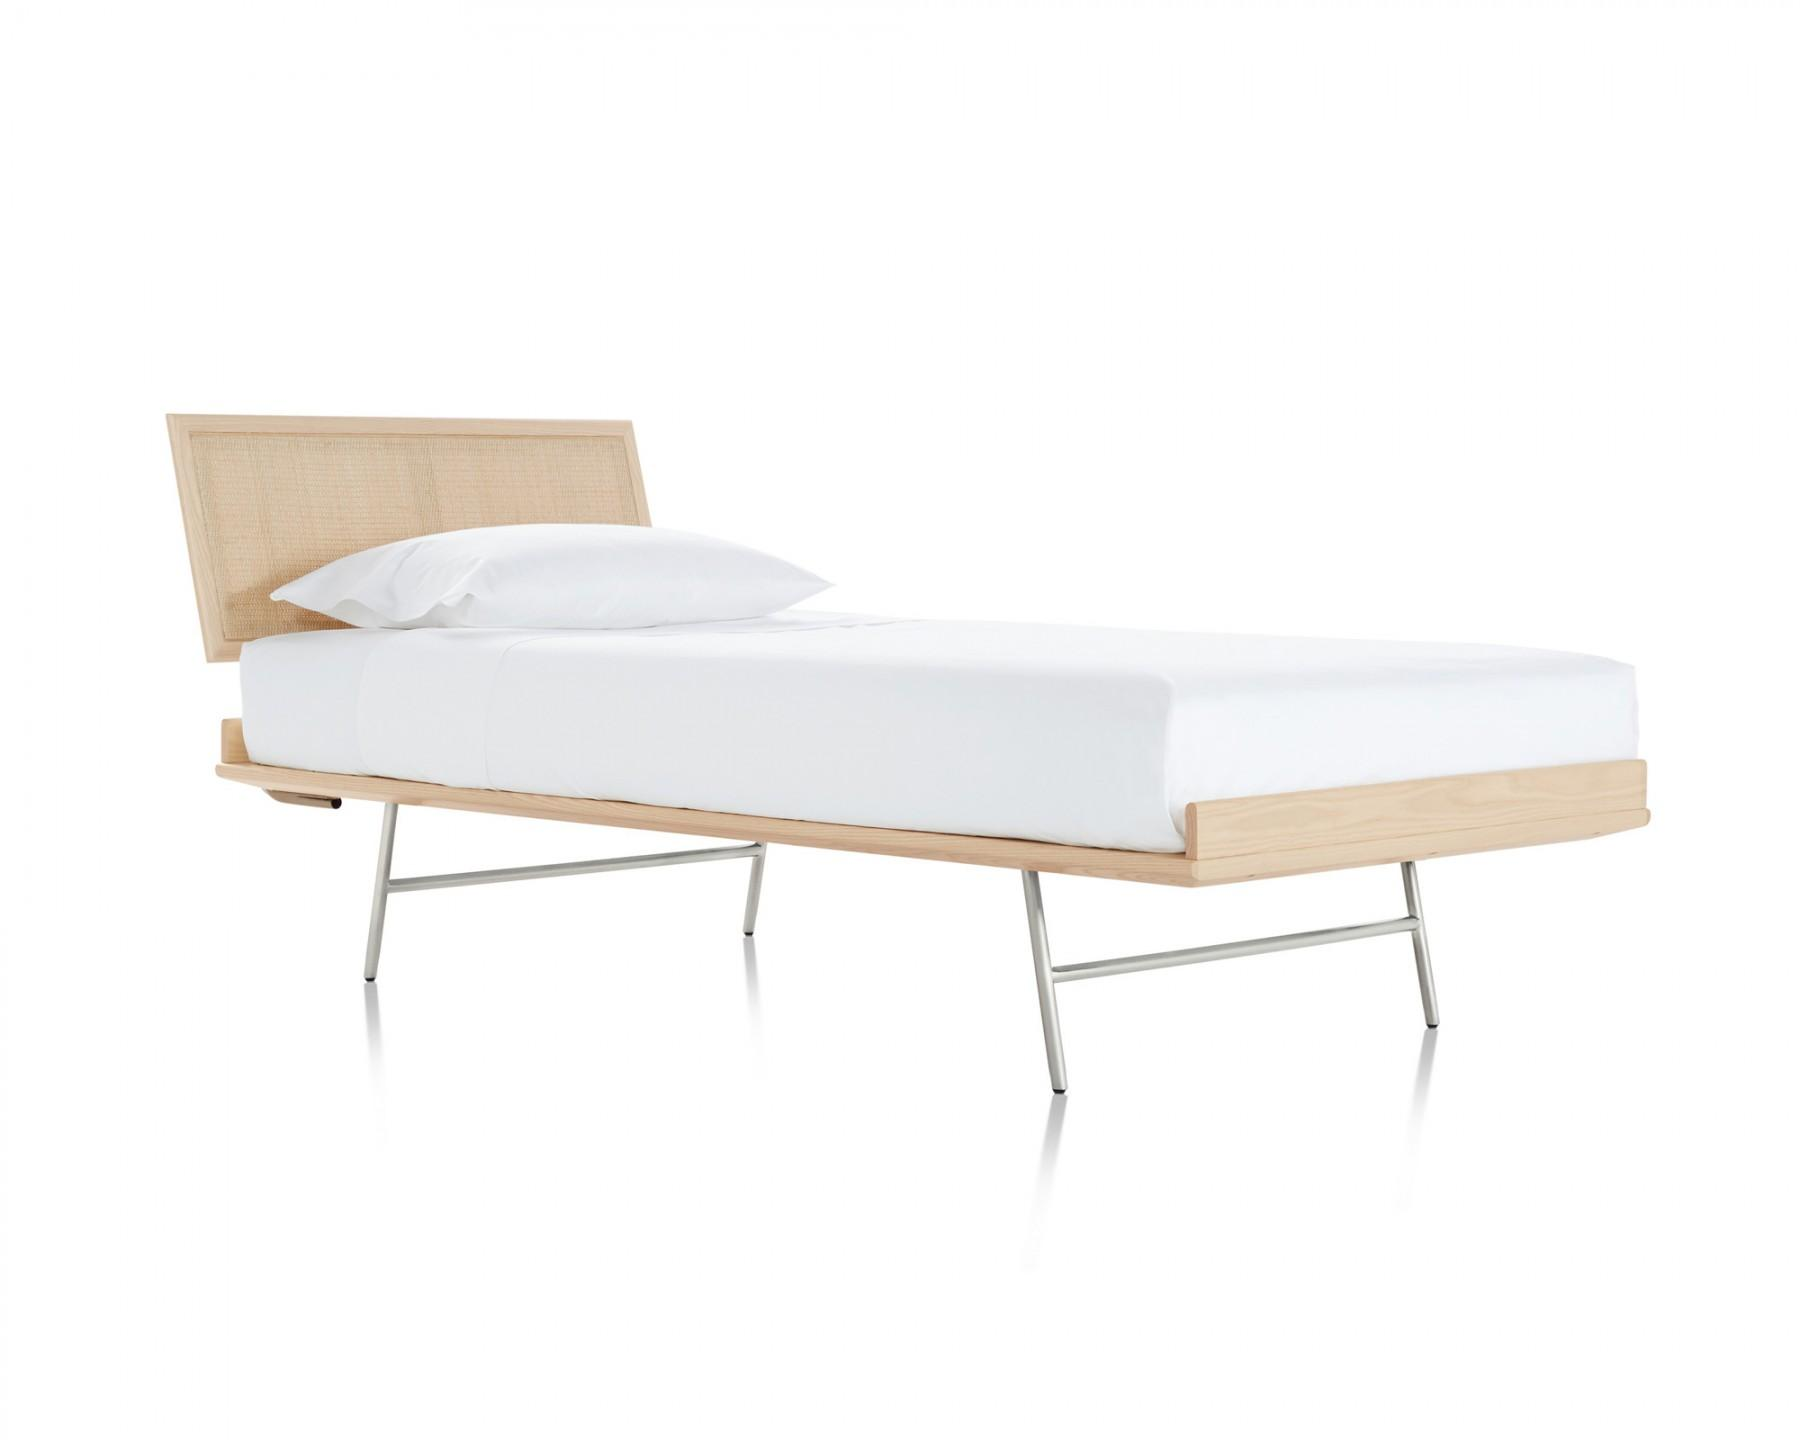bed: (103, 326, 1693, 967)
